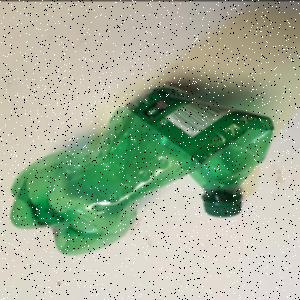Plastic-bottle: (7, 82, 275, 258)
